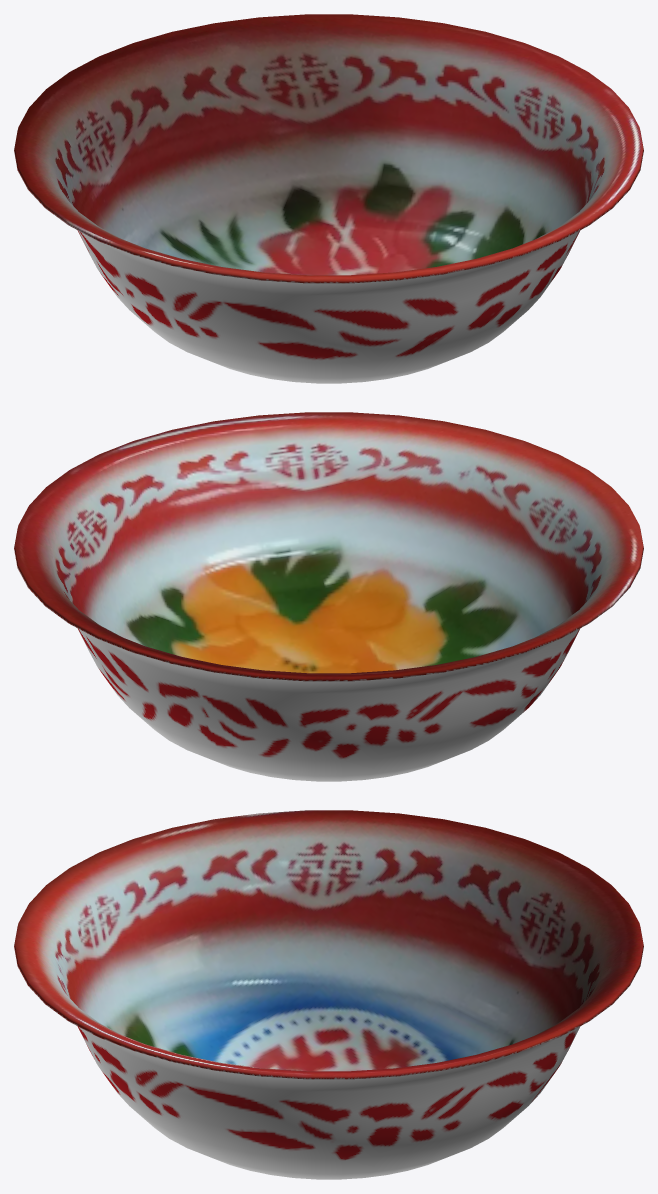
The picture shows the model from 3 angles, top to bottom: view 1: azimuth 30°, elevation 25°; view 2: azimuth 150°, elevation 25°; view 3: azimuth 270°, elevation 25°; orthographic projection.
Parts seen in each view (by area): view 1: 圆环; view 2: 圆环; view 3: 圆环.
Boxes of the visible parts, x1,y1,x2,y2 form: 圆环: [14, 14, 643, 383]; 圆环: [14, 412, 643, 781]; 圆环: [14, 810, 643, 1179].
Size of the model in its own units: 73.62 by 24 by 73.82.
